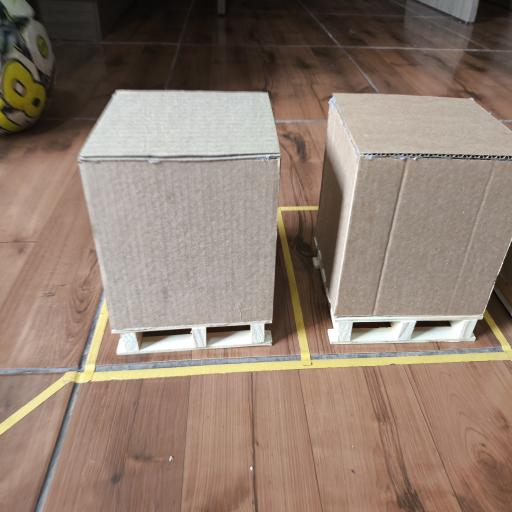pallet: (328, 309, 482, 344), (117, 324, 272, 355), (494, 275, 511, 315)
